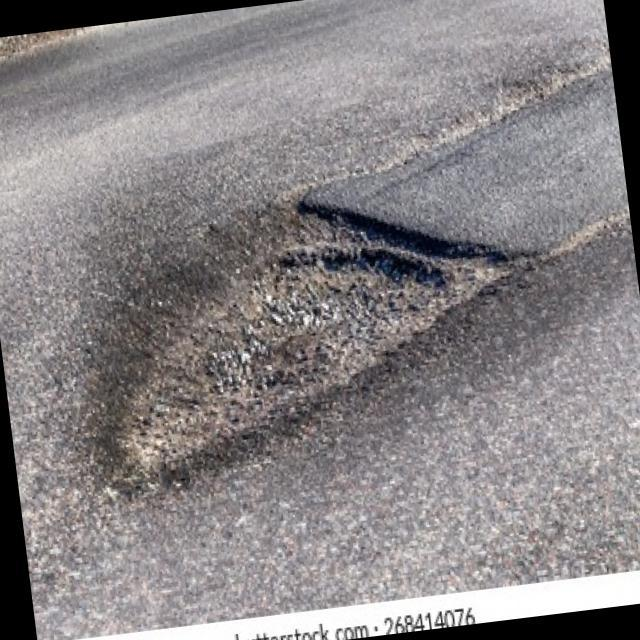Pothole: (56, 171, 539, 504)
